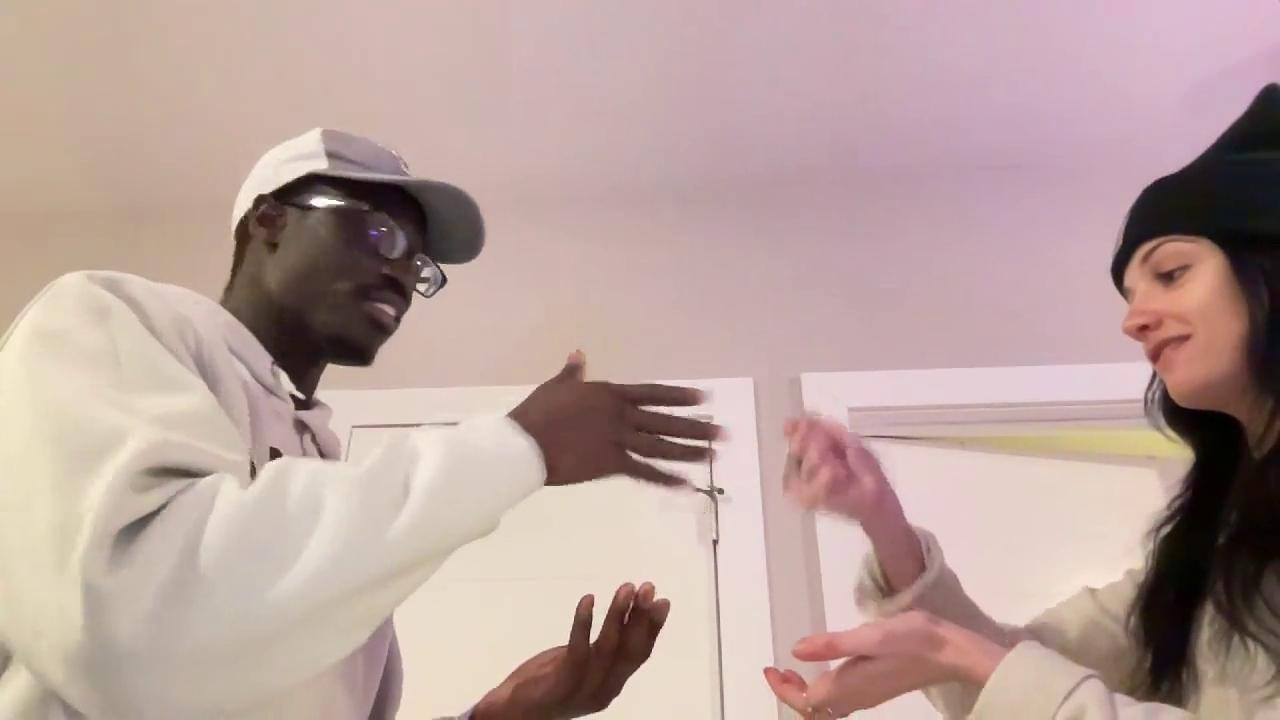Paper: (513, 343, 728, 500)
Rock: (782, 417, 880, 520)
